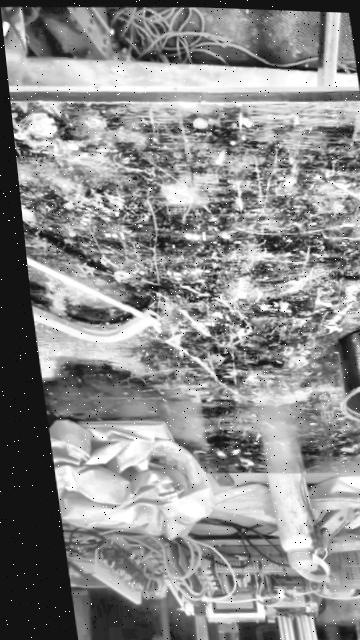pot: (330, 326, 360, 425)
